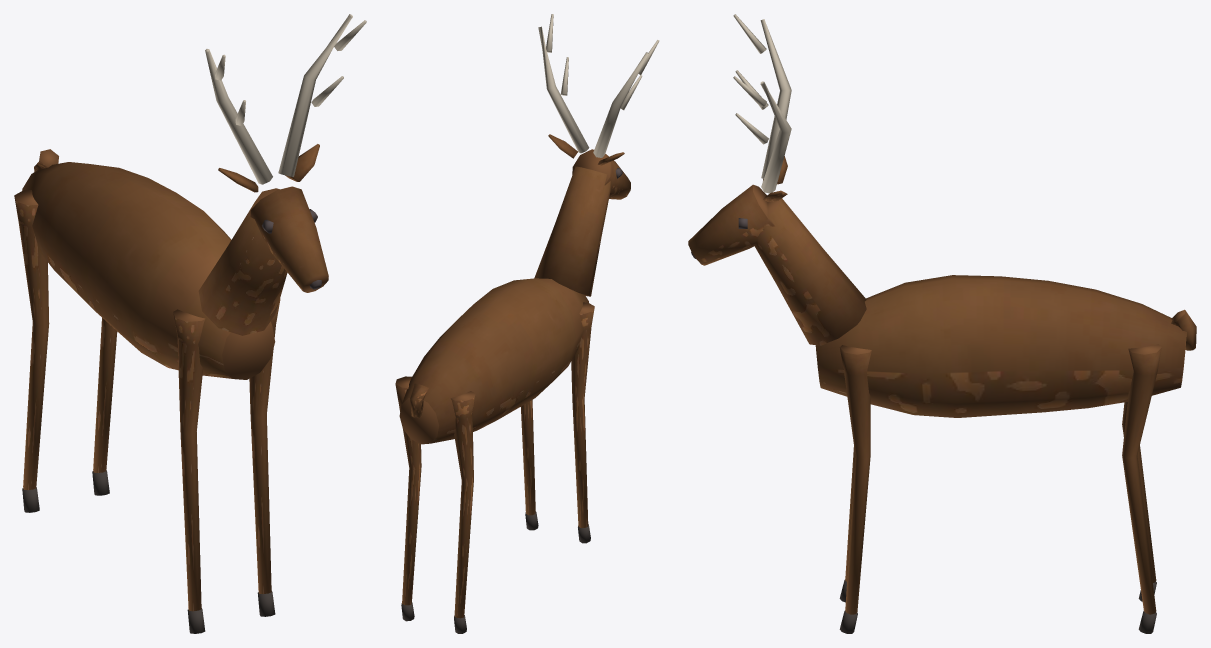
File: deer.fbx
3 views of the same model, side by side, from view 1: azimuth 30°, elevation 25°; view 2: azimuth 150°, elevation 25°; view 3: azimuth 270°, elevation 25° (orthographic). The views are drawn at different scales.
Parts seen in each view (by area): view 1: deer__body, deer__legFR, deer__legRR, deer__legFL, deer__legRL; view 2: deer__body, deer__legRR, deer__legFR, deer__legRL, deer__legFL; view 3: deer__body, deer__legRL, deer__legFL, deer__legRR.
Part boxes in pixels (left/top/right/bottom): deer__body: left=22, top=14, right=366, bottom=379; deer__legFR: left=173, top=309, right=205, bottom=633; deer__legRR: left=14, top=190, right=49, bottom=512; deer__legFL: left=249, top=298, right=280, bottom=616; deer__legRL: left=92, top=318, right=117, bottom=495; deer__body: left=399, top=14, right=659, bottom=444; deer__legRR: left=450, top=391, right=475, bottom=633; deer__legFR: left=571, top=302, right=594, bottom=543; deer__legRL: left=395, top=376, right=421, bottom=621; deer__legFL: left=521, top=400, right=538, bottom=530; deer__body: left=688, top=14, right=1196, bottom=417; deer__legRL: left=1122, top=344, right=1161, bottom=633; deer__legFL: left=839, top=345, right=871, bottom=633; deer__legRR: left=1122, top=402, right=1156, bottom=601.
Size of the model in its own units: 0.5263 by 2.15 by 1.74.
4 materials, 1 textured.
